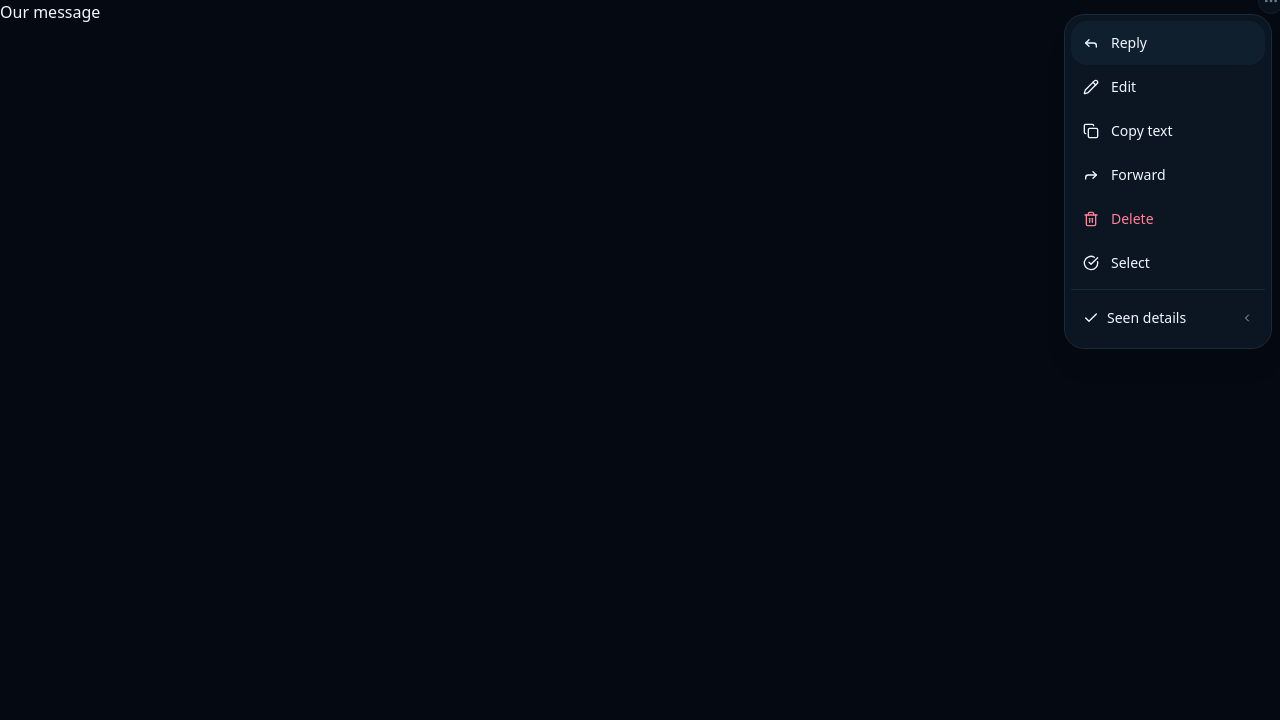
it: message readers › shows an empty state and lets failed requests retry
Earlier steps of the test are not shown.
Expected: the text "Seen details" is shown, left=1107, top=308, right=1186, bottom=327
Click the menu item with aria-label "0 Seen · View readers": (1168, 318) left=1071, top=294, right=1265, bottom=342
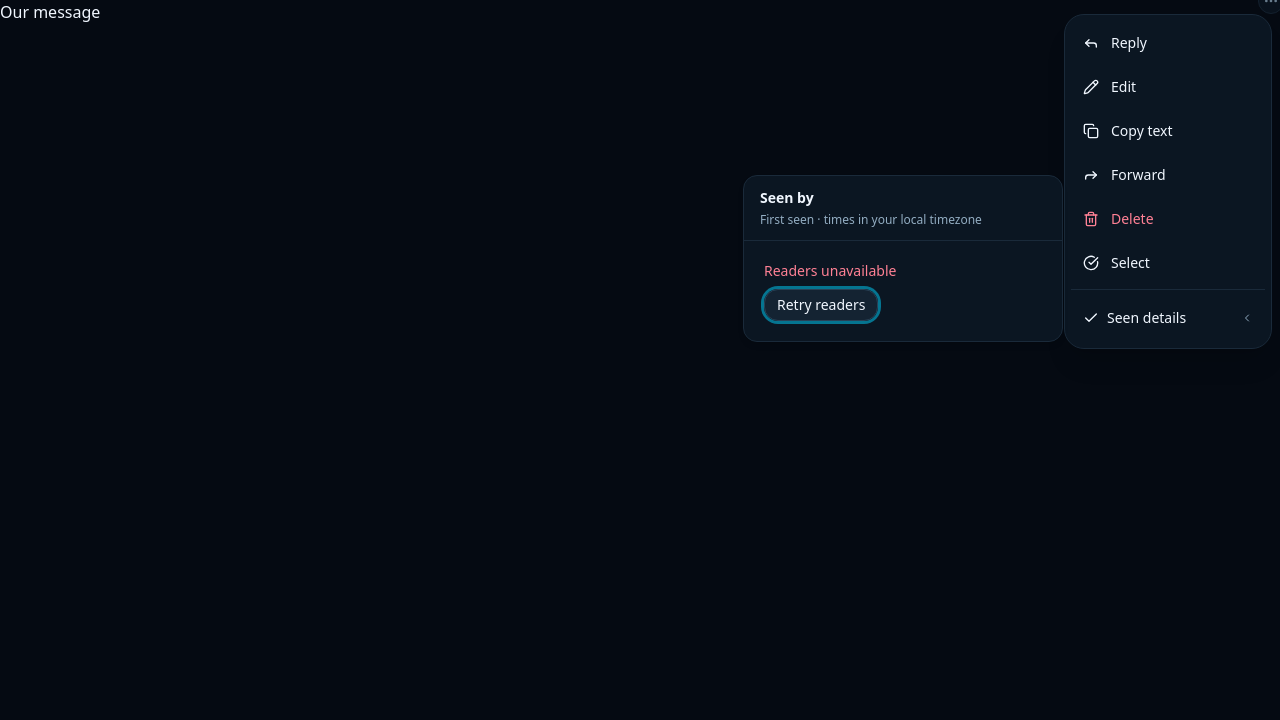
Expected: the text "Readers unavailable" is shown, left=764, top=261, right=896, bottom=280
Click the button "Retry readers": (821, 305) left=764, top=289, right=878, bottom=321
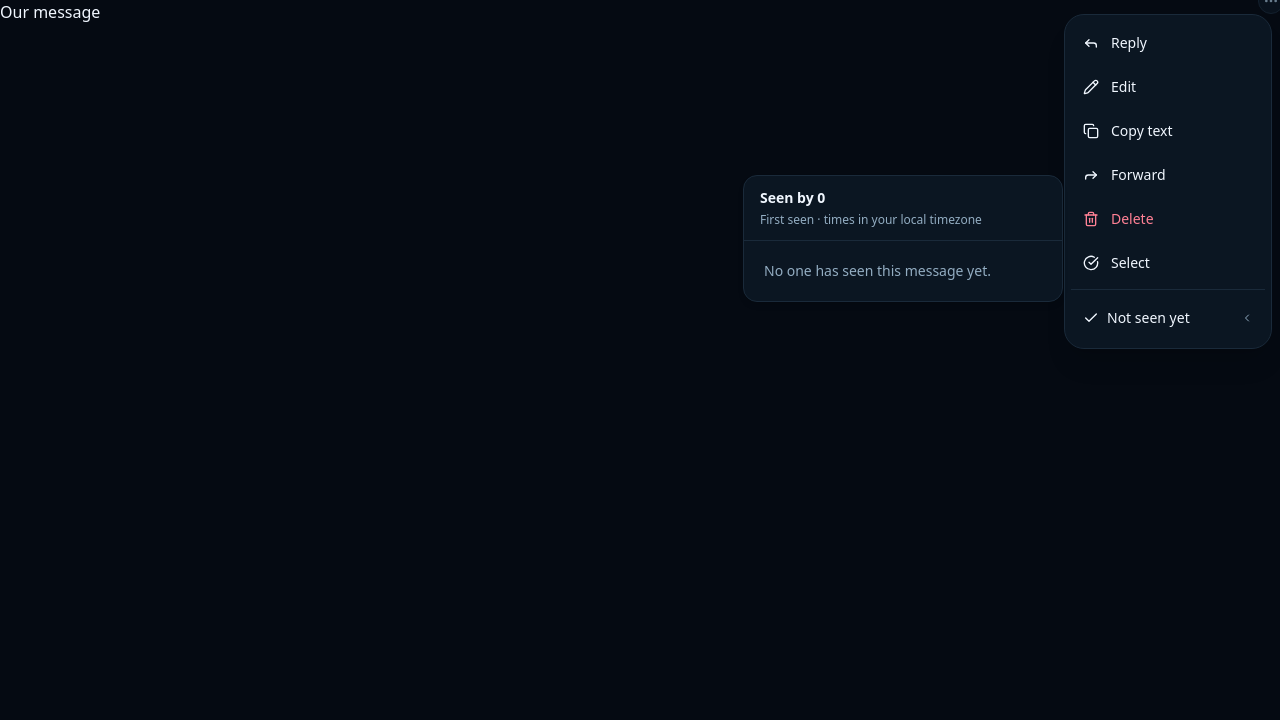
Expected: the text "No one has seen this message yet." is shown, left=764, top=261, right=991, bottom=280
